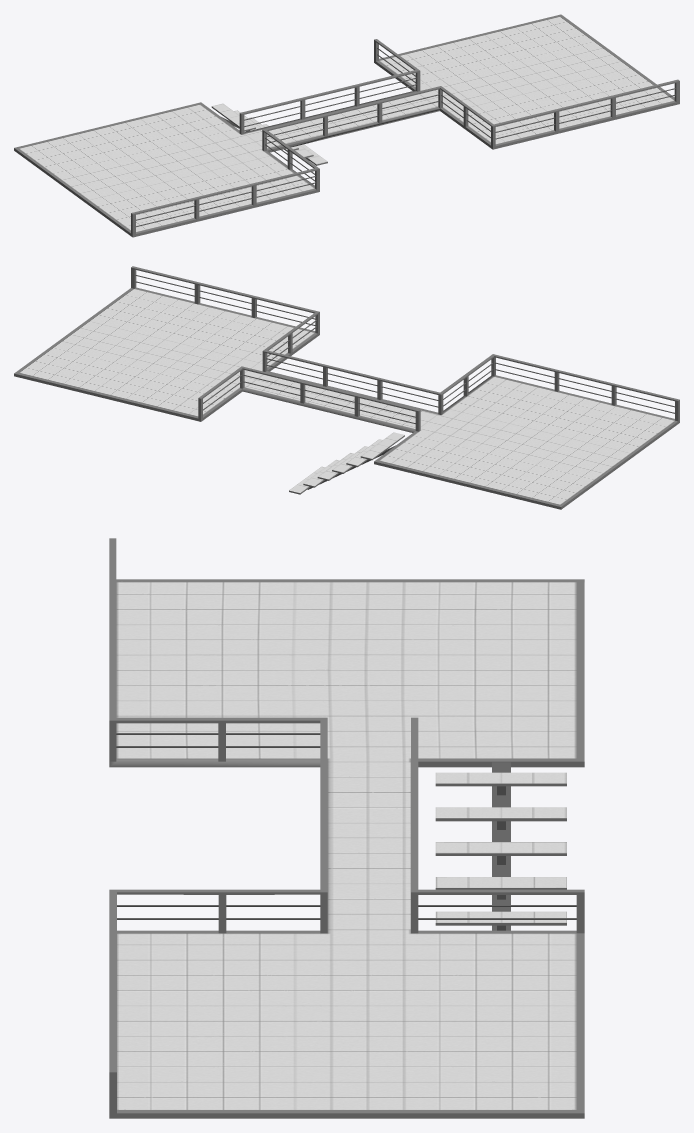
Rendered from det_upperFloor.fbx.
3 views of the same model, one above another, from view 1: azimuth 30°, elevation 25°; view 2: azimuth 150°, elevation 25°; view 3: azimuth 270°, elevation 25° (orthographic). The views are drawn at different scales.
Visible parts, largest first — view 1: upperFloor; view 2: upperFloor; view 3: upperFloor.
Boxes of the visible parts, <box> form: upperFloor: <box>14,14,679,237</box>; upperFloor: <box>14,266,679,509</box>; upperFloor: <box>109,538,584,1118</box>.
Bounding box in the file's own units: 19.85 × 2.88 × 7.46.
